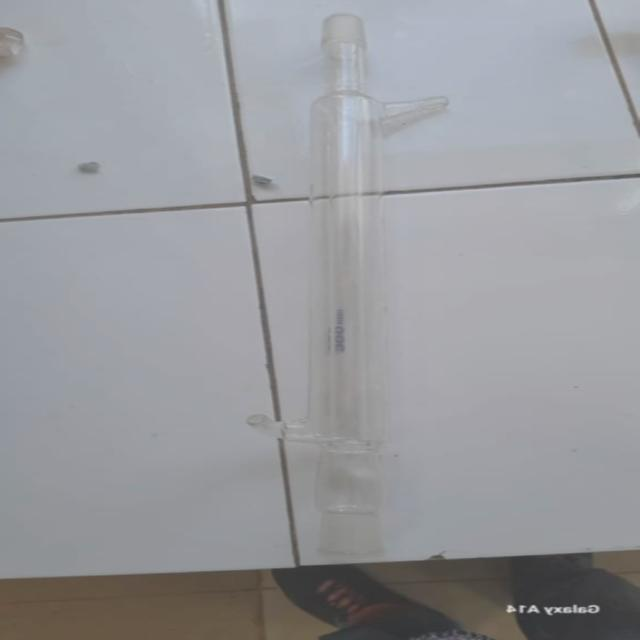Distillation: (228, 10, 470, 568)
